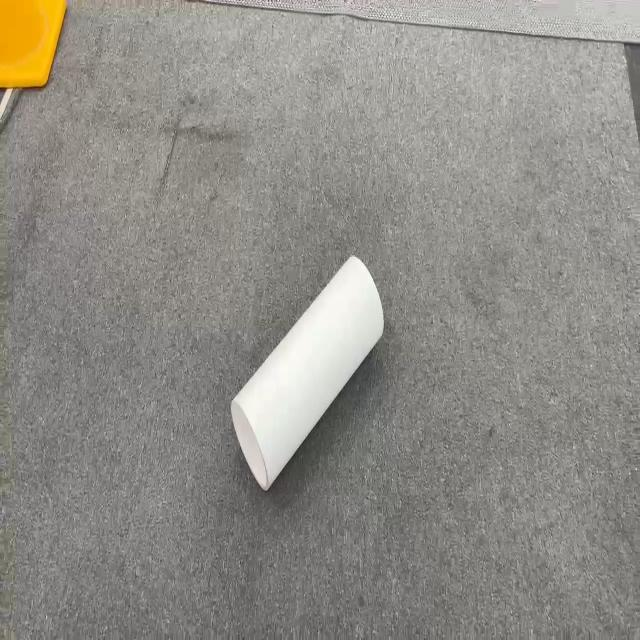coral: (230, 254, 384, 492)
